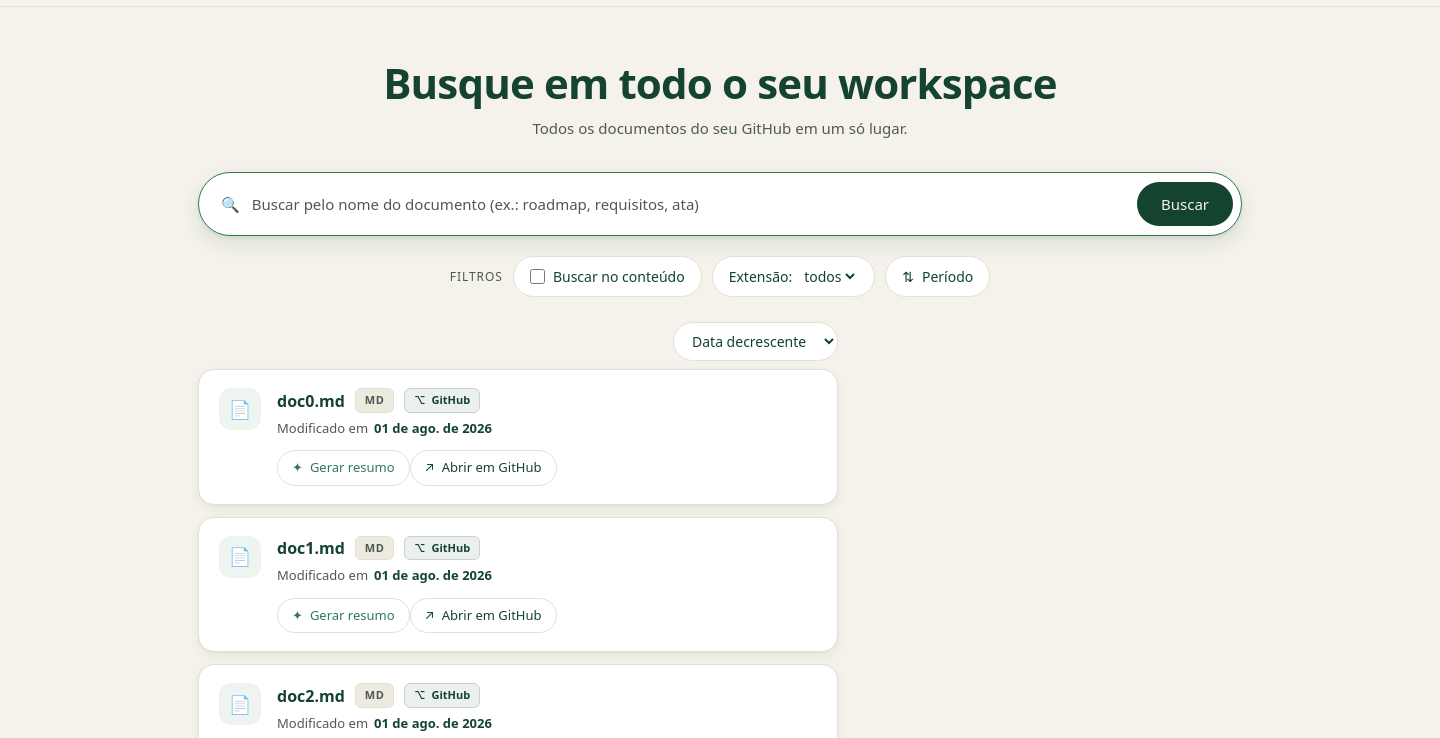
navegação entre páginas › aparece quando o resultado excede uma página
Replace the text in the search field labelled "Buscar pelo nome do documento" with "doc" at (688, 204), box [252, 179, 1125, 229]
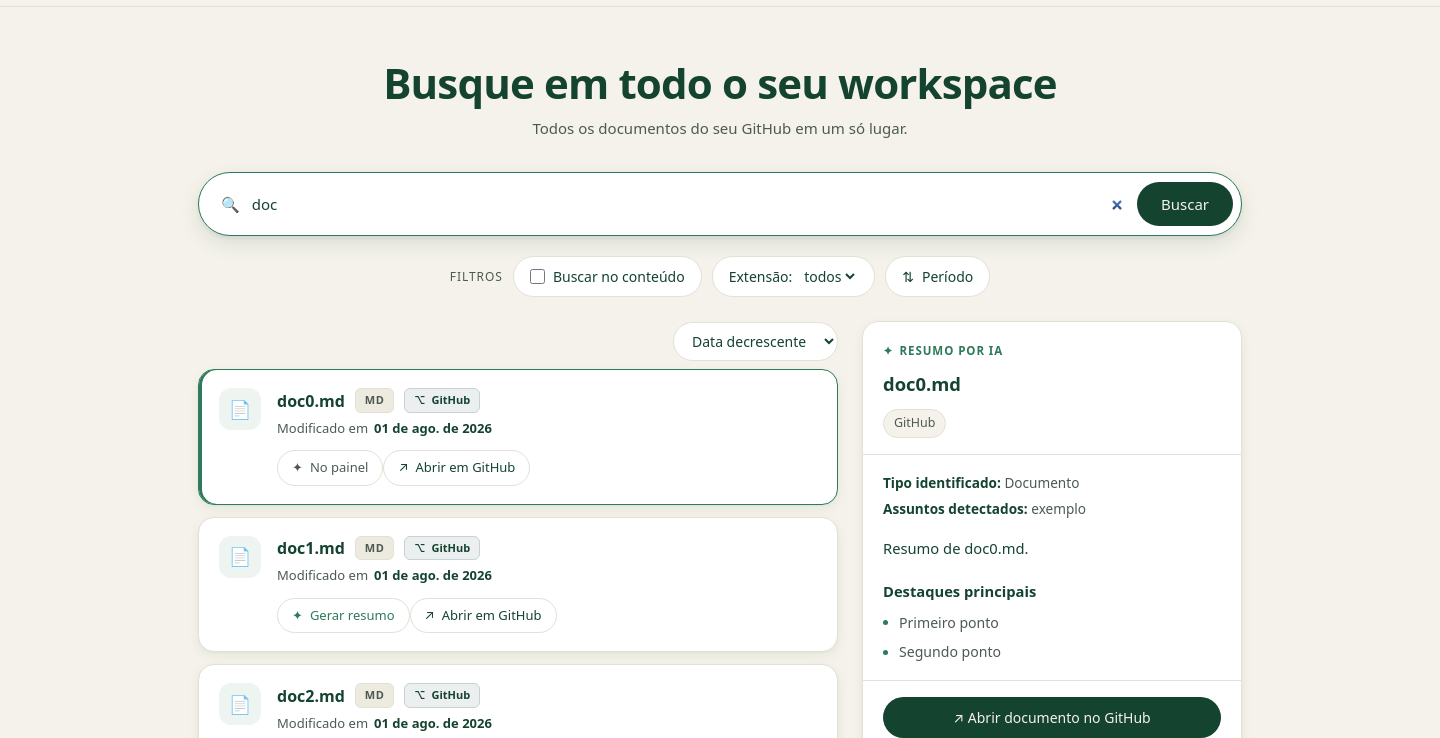
Click the button "Buscar".
click(1185, 204)  # box [1137, 182, 1233, 226]
(page scrolled)
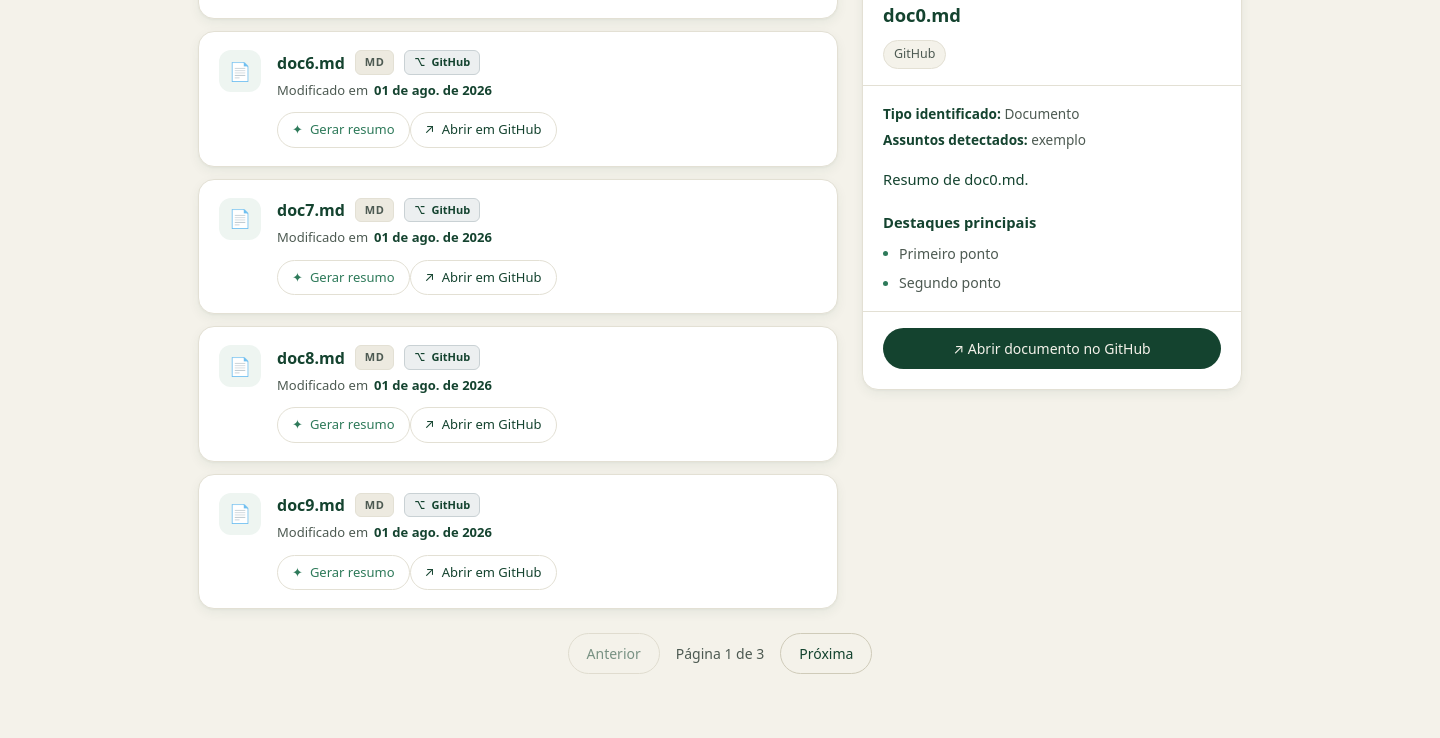
expect the navigation bar named "Navegação entre páginas" is shown: met, box [568, 633, 872, 674]
expect the text "Página 1 de 3" is shown: met, box [676, 643, 764, 664]
